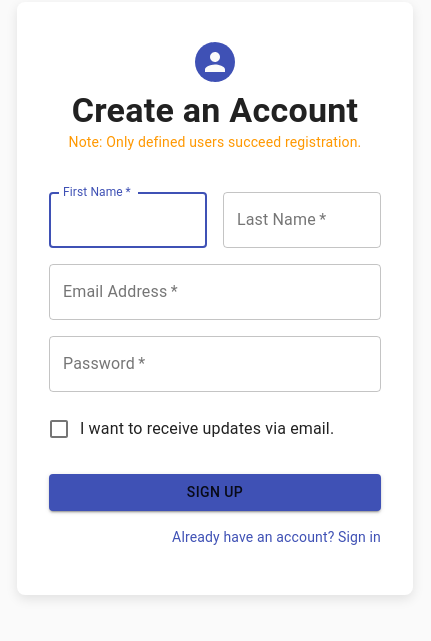
Scenario: shows error message for non-allowed users
Fill out the form with a non-allowed user
Type "John" into the field labelled "First Name *" at (128,220), box [49,192,207,248]
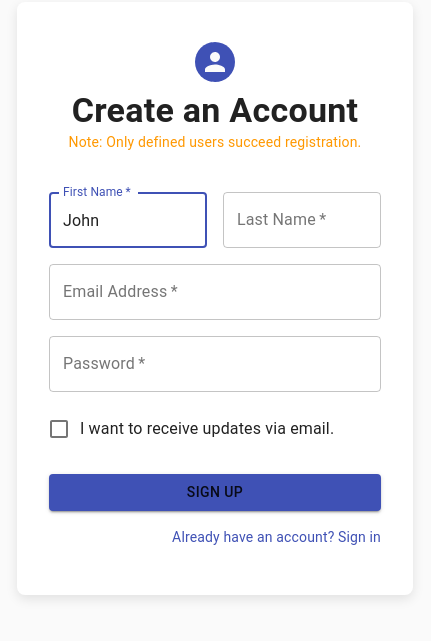
Type "Doe" into the field labelled "Last Name *" at (302,220), box [223,192,381,248]
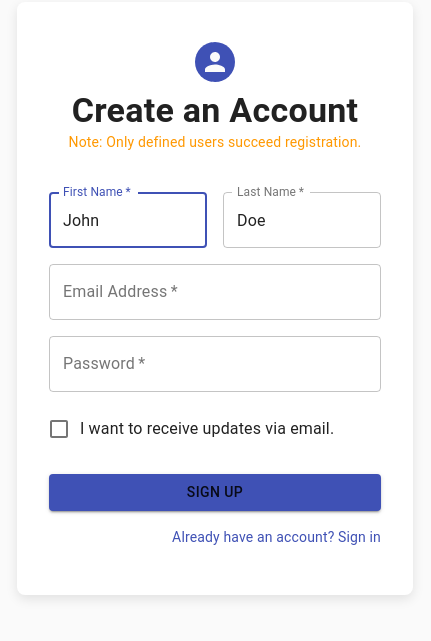
Type "notallowed@example.com" into the field labelled "Email Address *" at (215,292), box [49,264,381,320]
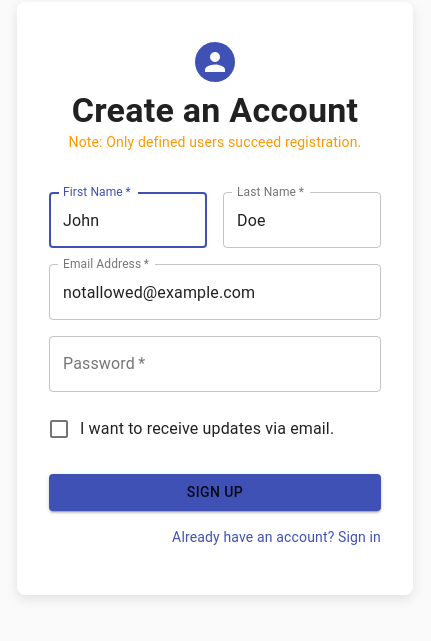
Type "password123" into the password field labelled "Password *" at (215,364), box [49,336,381,392]
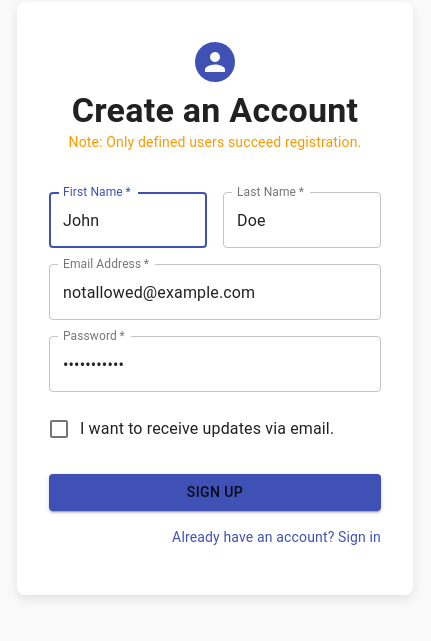
Submit the form
Click the button "Sign Up" at (215,492), box [49,474,381,510]
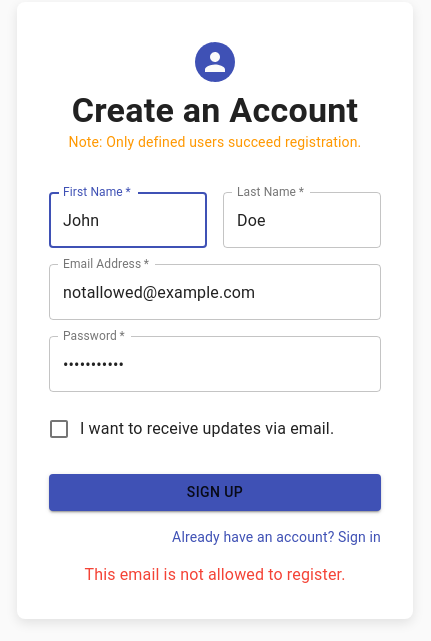
expect the text "This email is not allowed to register." is shown: met, box [84,562,346,586]
